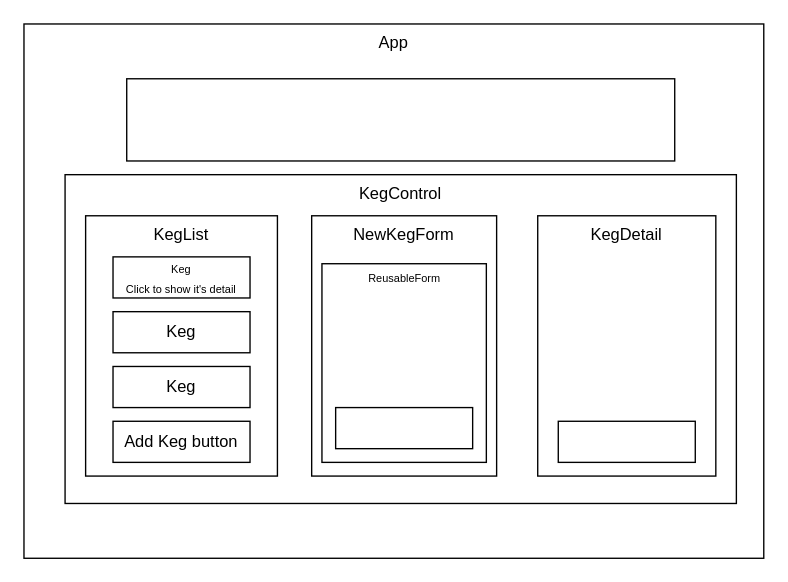
Some shapes in this 788 by 582 pixel diagram are drawn without their labels. Here are the shapes that lost their labels. From the top down, the centre of each, then its label:
pixel 400 119: Header
pixel 403 427: Submit will create a keg and show list of kegs
pixel 626 441: Update will update the number of pints remaining
